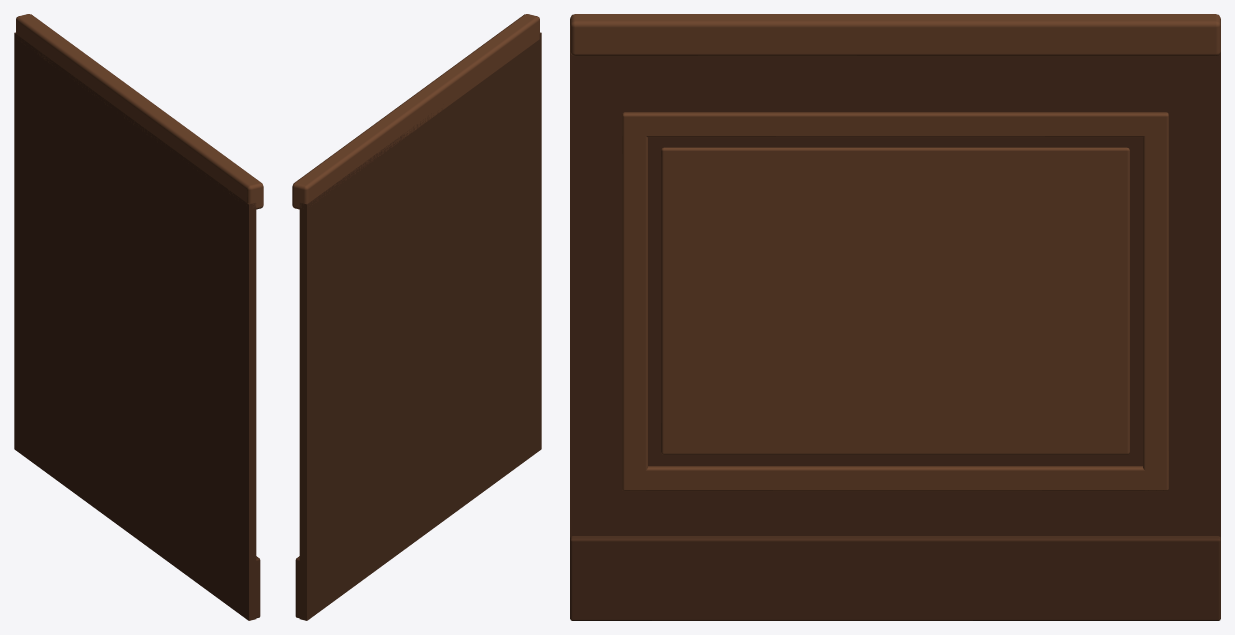
File: wainscot.glb
3 views of the same model, side by side, from view 1: azimuth 30°, elevation 25°; view 2: azimuth 150°, elevation 25°; view 3: azimuth 270°, elevation 25° (orthographic). The views are drawn at different scales.
Parts seen in each view (by area): view 1: grund, leiste, sockel; view 2: grund, leiste, sockel; view 3: fuellung, grund, sockel, leiste, rahmen_o, rahmen_u, rahmen_l, rahmen_r.
Boxes of the visible parts, x1,y1,x2,y2 form: grund: [14, 32, 256, 620]; leiste: [16, 14, 263, 209]; sockel: [16, 393, 260, 618]; grund: [299, 32, 541, 620]; leiste: [292, 14, 539, 209]; sockel: [295, 394, 540, 618]; fuellung: [661, 147, 1129, 454]; grund: [570, 52, 1220, 537]; sockel: [570, 536, 1220, 620]; leiste: [570, 14, 1220, 56]; rahmen_o: [622, 112, 1168, 137]; rahmen_u: [622, 466, 1168, 491]; rahmen_l: [1143, 112, 1168, 490]; rahmen_r: [622, 112, 647, 490].
Size of the model in its own units: 0.04 by 1.02 by 1.
